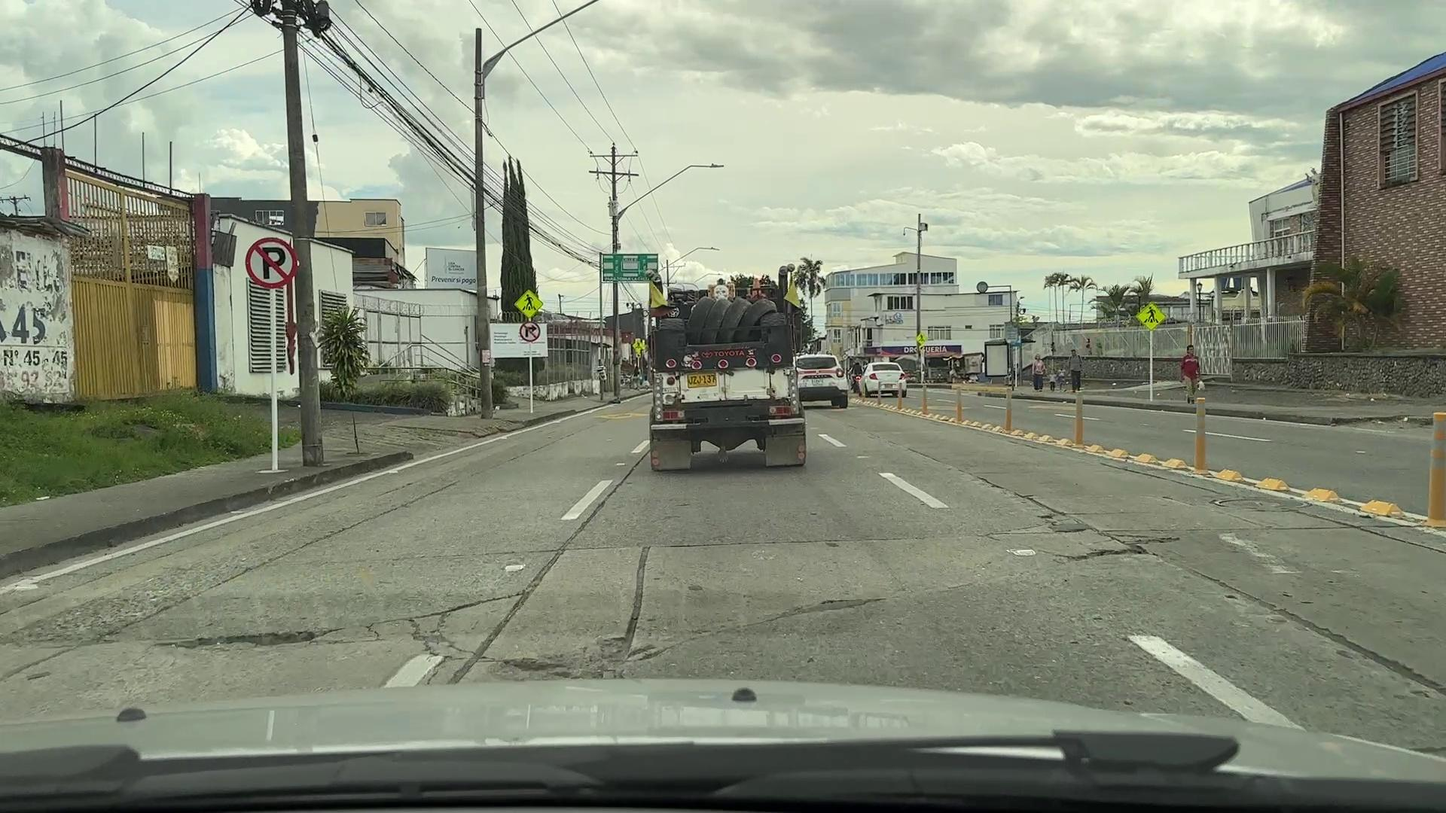bache: (488, 636, 633, 681), (153, 628, 344, 649), (1056, 531, 1181, 561), (1036, 513, 1092, 533)
grieta: (445, 449, 651, 685), (1188, 566, 1445, 696), (362, 591, 523, 684), (625, 546, 651, 639)
registro: (1218, 499, 1303, 508)
